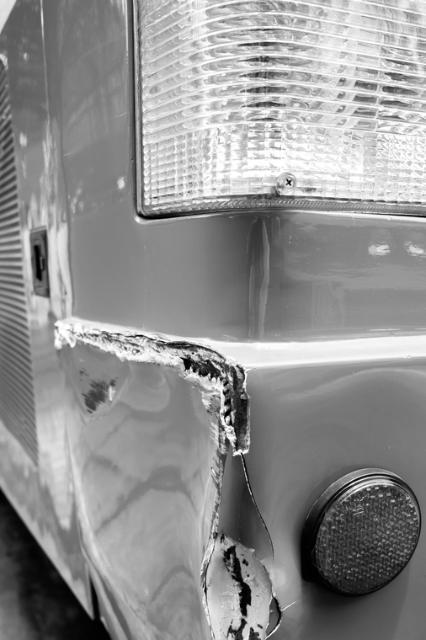Bumper: (21, 273, 329, 640)
